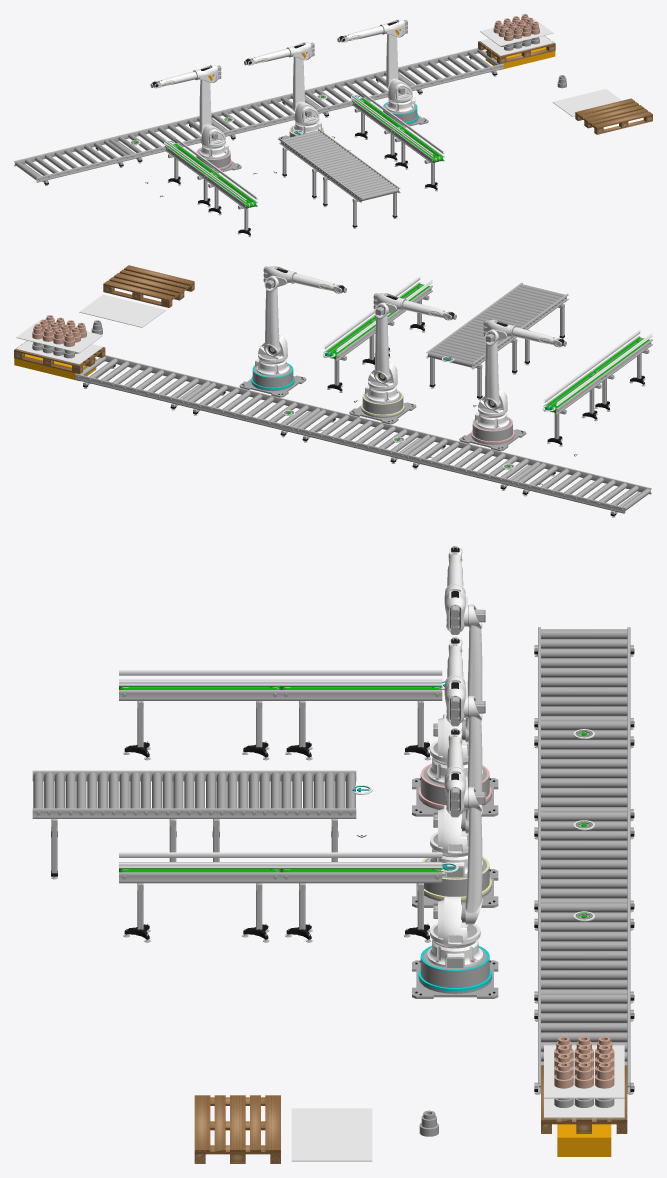
Rendered from PM Assembly Palletizing.glb.
The picture shows the model from 3 angles, top to bottom: view 1: azimuth 30°, elevation 25°; view 2: azimuth 150°, elevation 25°; view 3: azimuth 270°, elevation 25°; orthographic projection. The views are drawn at different scales.
Parts seen in each view (by area): view 1: Mesh_0B5g, Mesh_08Ag, Mesh_0CMg, Mesh_00fg, Mesh_0DTg, Mesh_04Ag, Mesh_0Bpg, Mesh_0B7g, Mesh_0Bcg, Mesh_00Ug, Mesh_0DIg, Mesh_03zg (+4 smaller); view 2: Mesh_0B5g, Mesh_08Bg, Mesh_01ig, Mesh_05Dg, Mesh_0CNg, Mesh_0ACg, Mesh_04Ag, Mesh_00fg, Mesh_0DTg, Mesh_0Bpg, Mesh_0B7g, Mesh_0Bcg (+17 smaller); view 3: Mesh_0B5g, Mesh_0Bpg, Mesh_09Pg, Mesh_08tg, Mesh_02Kg, Mesh_02qg, Mesh_06Fg, Mesh_07Bg, Mesh_0B7g, Mesh_0DIg, Mesh_0Cyg, Mesh_0DTg (+53 smaller).
Part boxes in pixels (x1,y1,x2,y2): Mesh_0B5g: (552,89,621,116); Mesh_08Ag: (36,154,130,182); Mesh_0CMg: (410,63,503,90); Mesh_00fg: (199,79,211,124); Mesh_0DTg: (386,34,398,79); Mesh_04Ag: (293,57,304,102); Mesh_0Bpg: (480,18,553,46); Mesh_0B7g: (485,47,555,70); Mesh_0Bcg: (480,36,553,56); Mesh_00Ug: (200,124,225,148); Mesh_0DIg: (387,79,412,102); Mesh_03zg: (294,102,319,125); Mesh_0B5g: (79,294,166,327); Mesh_08Bg: (514,481,625,513); Mesh_01ig: (404,454,515,486); Mesh_05Dg: (294,427,405,459); Mesh_0CNg: (74,373,185,406); Mesh_0ACg: (184,400,295,433); Mesh_04Ag: (375,316,389,370); Mesh_00fg: (485,343,499,397); Mesh_0DTg: (265,290,279,344); Mesh_0Bpg: (16,320,102,353); Mesh_0B7g: (14,354,96,381); Mesh_0Bcg: (16,340,102,364); Mesh_0B5g: (291,1108,372,1161); Mesh_0Bpg: (544,1045,624,1098); Mesh_09Pg: (280,872,442,883); Mesh_08tg: (119,872,280,883); Mesh_02Kg: (280,690,442,700); Mesh_02qg: (119,690,280,700); Mesh_06Fg: (194,808,356,818); Mesh_07Bg: (32,808,194,818); Mesh_0B7g: (557,1124,611,1156); Mesh_0DIg: (430,896,480,947); Mesh_0Cyg: (420,947,489,987); Mesh_0DTg: (466,811,482,902).
Bounding box in the file's own units: 11.36 × 2.54 × 5.58.
21 materials, 1 textured.
